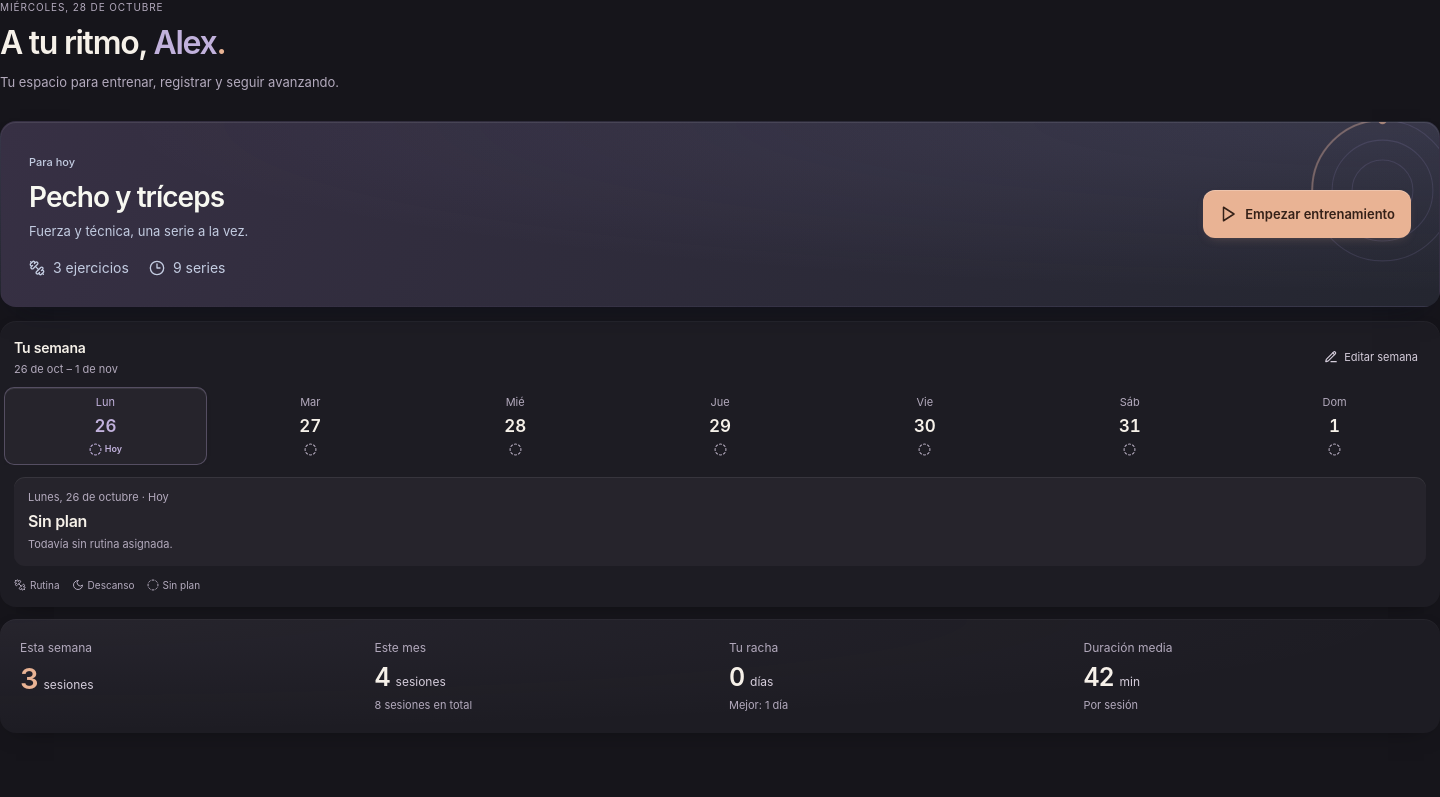
dashboard training priority › keeps the weekly disclosure label while expanding and collapsing
Step 1. Click the button "Editar semana" → click(1371, 357), box [1316,335,1426,379]
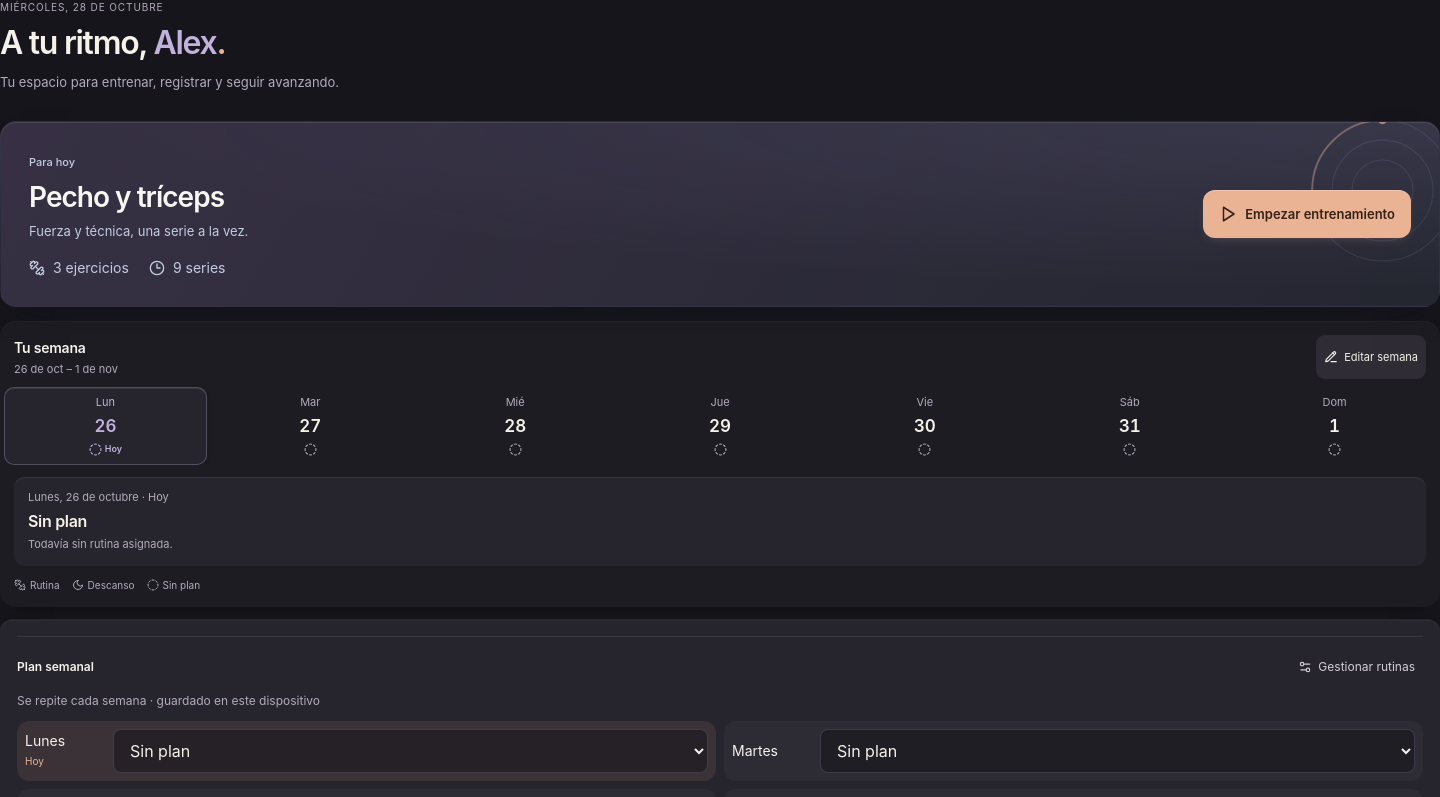
Expected: the button "Editar semana" is expanded
Expected: the number of dropdowns is 7
Step 2. Click the button "Editar semana" → click(1371, 357), box [1316,335,1426,379]
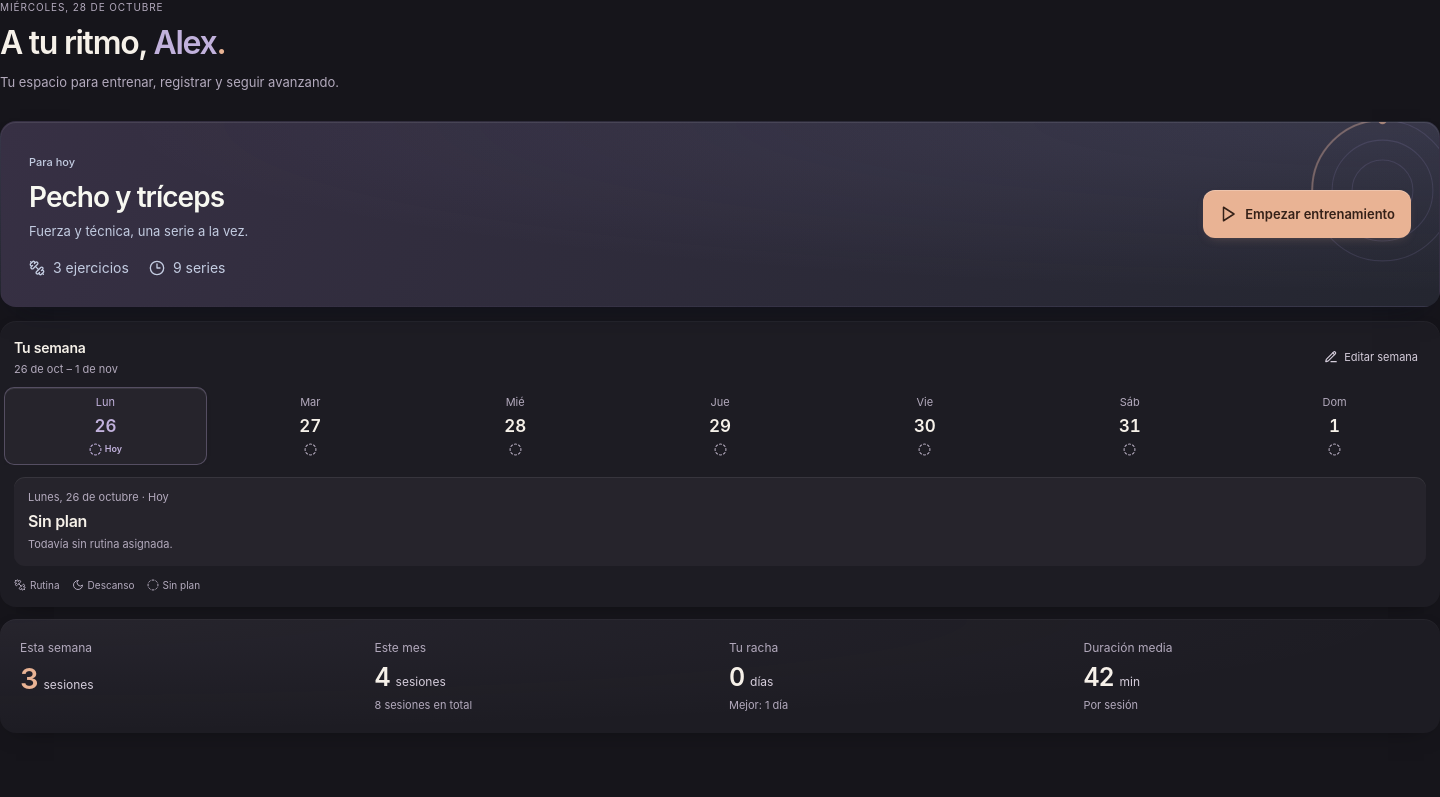
Expected: the button "Editar semana" is collapsed, [1316,335,1426,379]
Expected: the dropdown is gone
